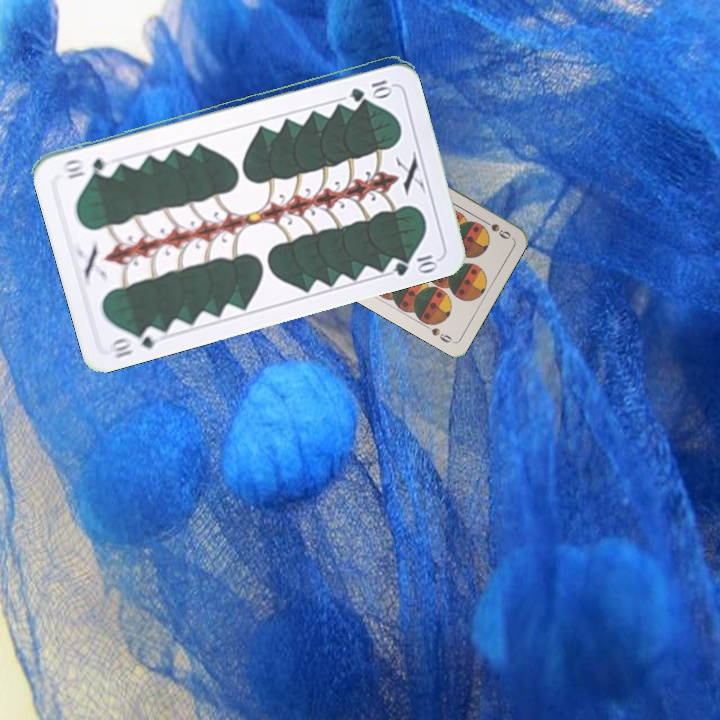G10: (108, 322, 165, 361), (345, 76, 395, 101)
S9: (477, 215, 513, 242)
